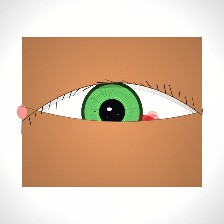hemorrhage_spot: (100, 98, 168, 153)
